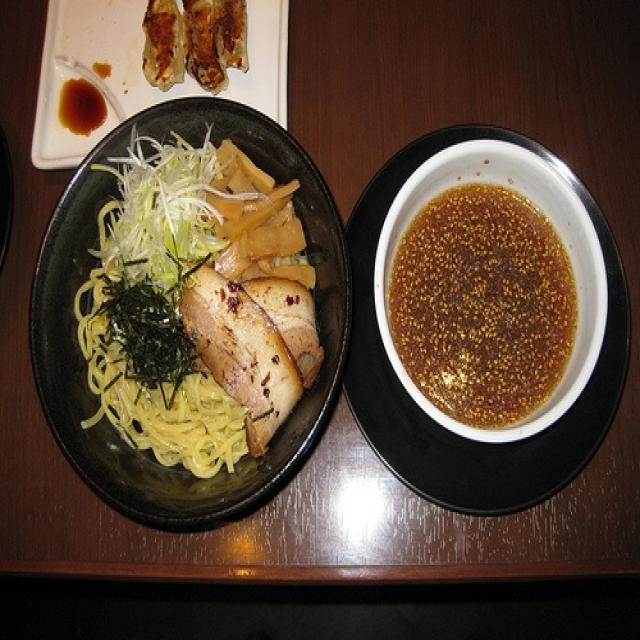面条主食: (39, 102, 606, 526)
